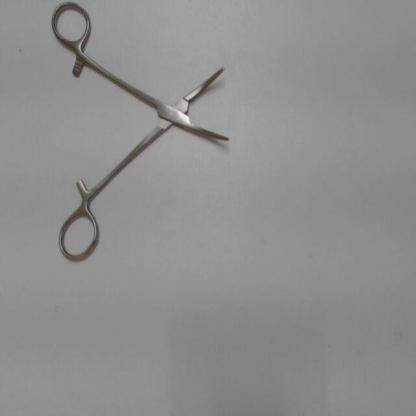Crile Artery Forceps: (47, 1, 237, 273)
